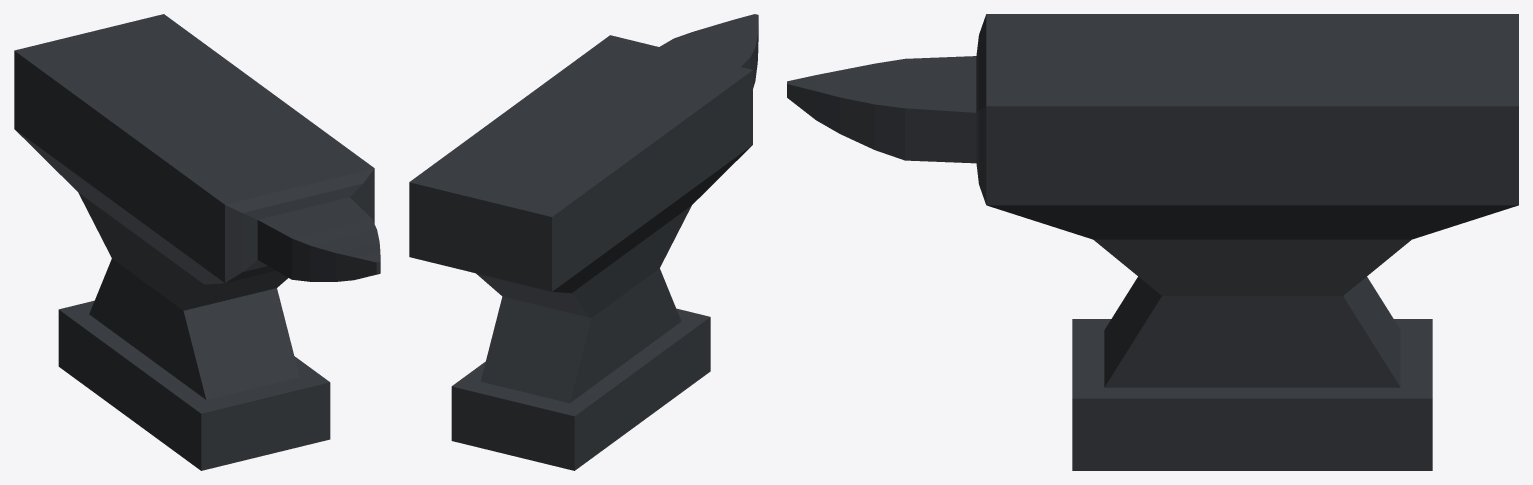
The model's file is Anvil_1.fbx.
3 renders of one model, left to right at view 1: azimuth 30°, elevation 25°; view 2: azimuth 150°, elevation 25°; view 3: azimuth 270°, elevation 25°, orthographic. The views are drawn at different scales.
Parts seen in each view (by area): view 1: Anvil_1; view 2: Anvil_1; view 3: Anvil_1.
Boxes of the visible parts, x1=… form: Anvil_1: x1=14, y1=14, x2=380, y2=470; Anvil_1: x1=409, y1=14, x2=758, y2=470; Anvil_1: x1=787, y1=14, x2=1518, y2=470.
Size of the model in its own units: 32.6 by 61.1 by 109.
